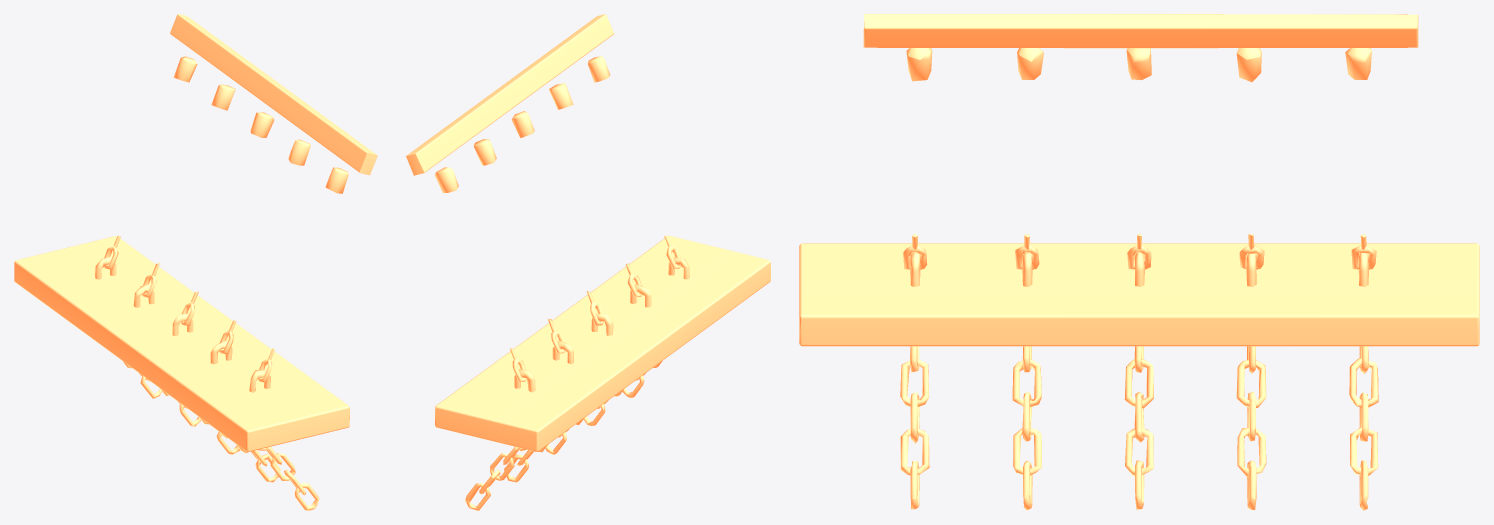
The model's file is SM_ShroudSupport01.fbx.
3 renders of one model, left to right at view 1: azimuth 30°, elevation 25°; view 2: azimuth 150°, elevation 25°; view 3: azimuth 270°, elevation 25°, orthographic. The views are drawn at different scales.
Visible parts, largest first — view 1: SM_ShroudSupport01_LOD0; view 2: SM_ShroudSupport01_LOD0; view 3: SM_ShroudSupport01_LOD0.
Part boxes in pixels (box(x1,y1,x2,y2)): SM_ShroudSupport01_LOD0: box(14, 14, 377, 510); SM_ShroudSupport01_LOD0: box(406, 14, 770, 510); SM_ShroudSupport01_LOD0: box(799, 14, 1479, 510).
Bounding box in the file's own units: 123 × 326 × 278.
